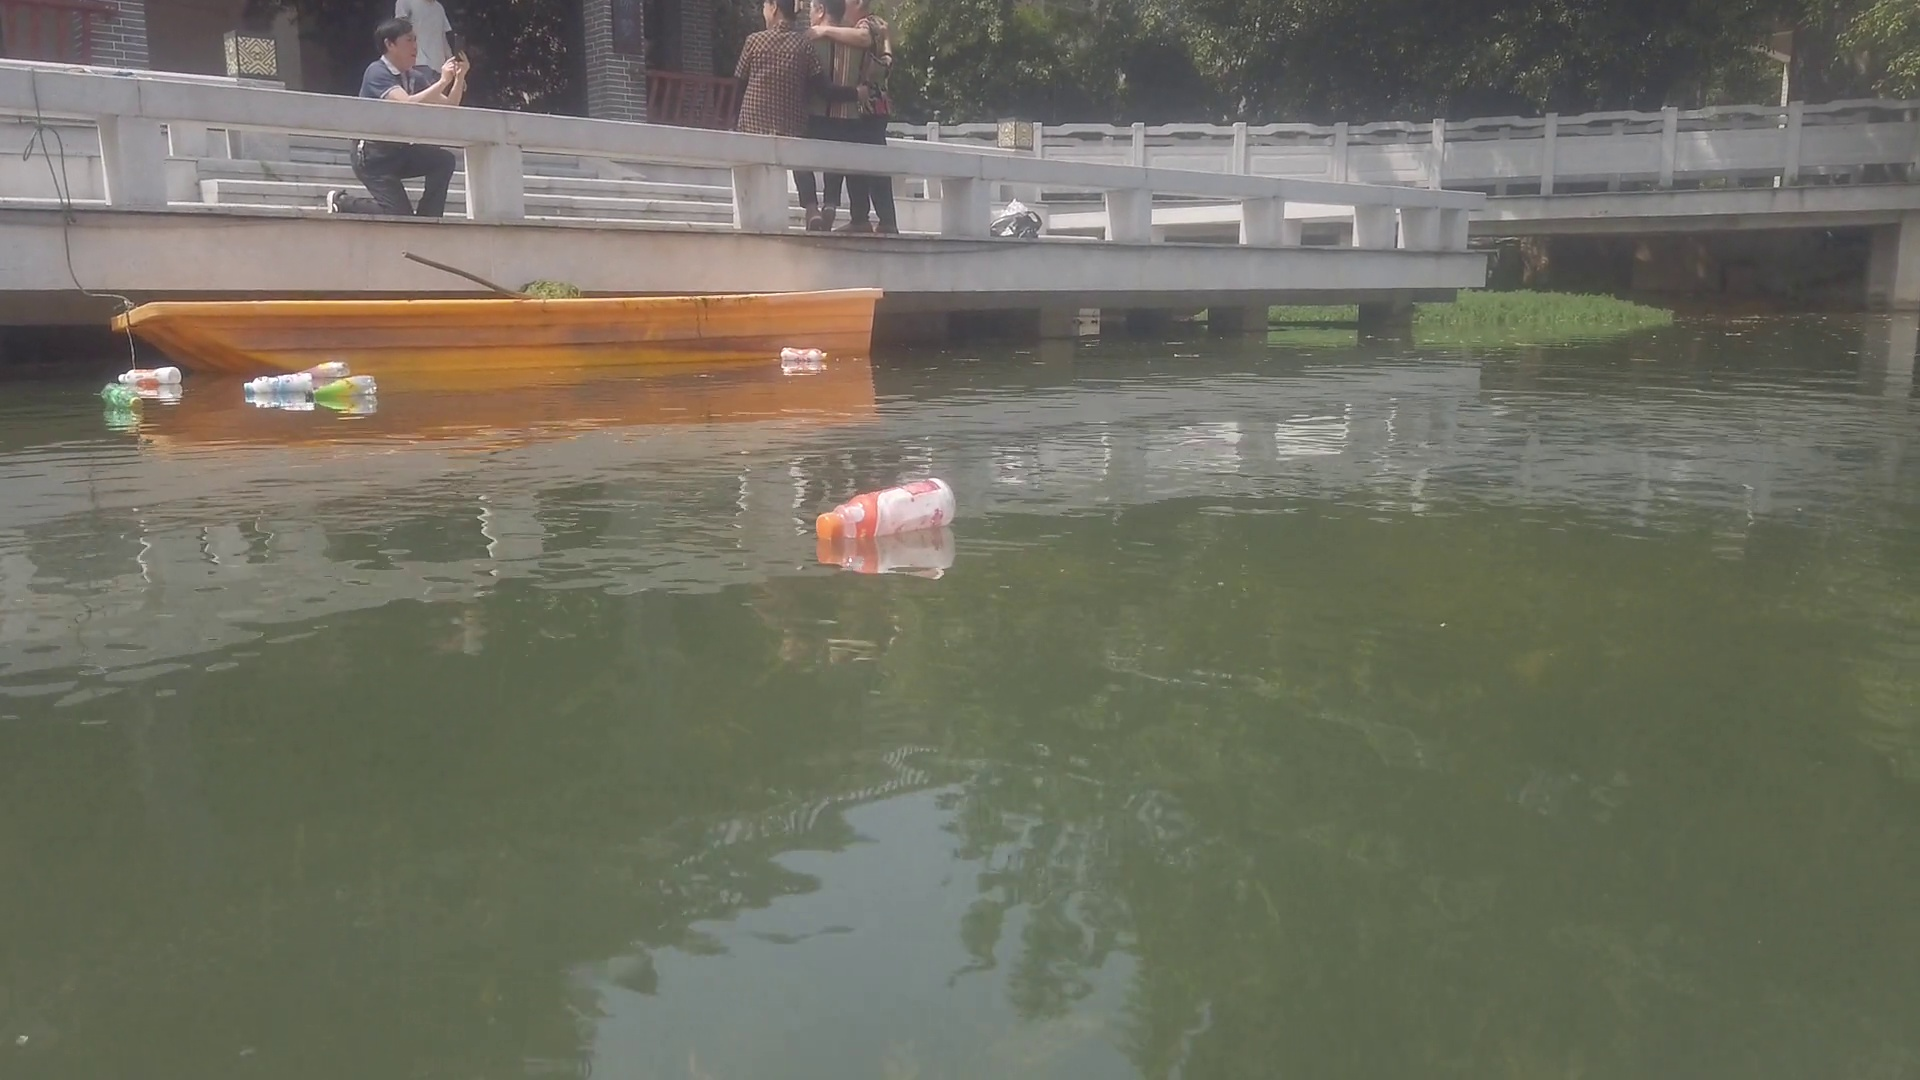bottle: (815, 480, 956, 538), (240, 375, 313, 397), (313, 375, 378, 396), (115, 367, 182, 385), (104, 385, 140, 411), (295, 363, 349, 380), (779, 345, 828, 363)
